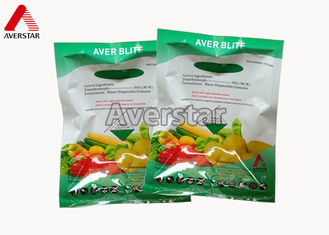Insecticide: (144, 24, 287, 208), (51, 38, 195, 211)
